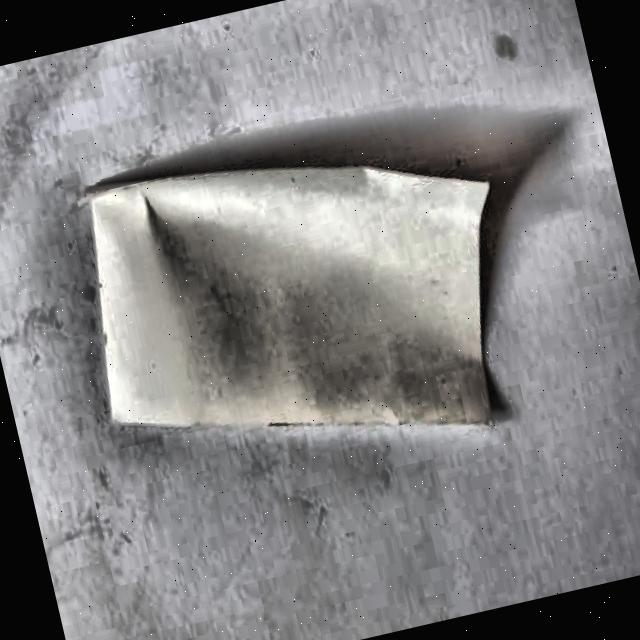paper: (61, 91, 538, 512)
